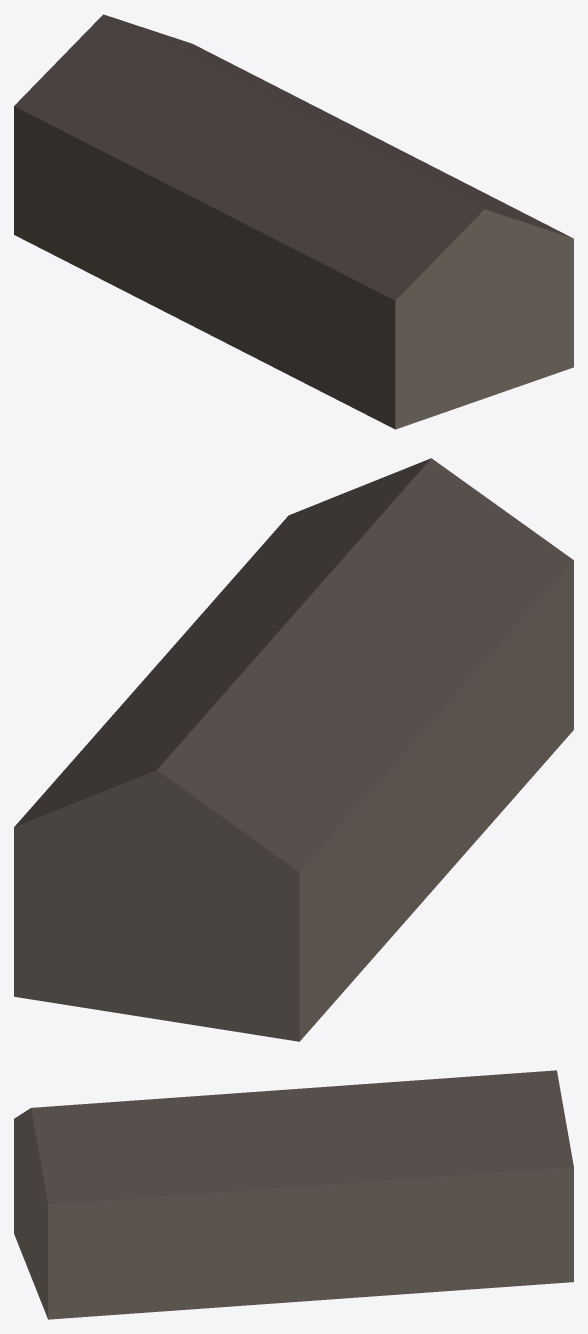
3 views of the same model, one above another, from view 1: azimuth 30°, elevation 25°; view 2: azimuth 150°, elevation 25°; view 3: azimuth 270°, elevation 25° (orthographic). The views are drawn at different scales.
Parts seen in each view (by area): view 1: HP-w858807435; view 2: HP-w858807435; view 3: HP-w858807435.
Part boxes in pixels (box(x1,y1,x2,y2)): HP-w858807435: box(14, 14, 573, 429); HP-w858807435: box(14, 458, 573, 1041); HP-w858807435: box(14, 1070, 573, 1319).
Size of the model in its own units: 13.86 by 8.83 by 26.54.
